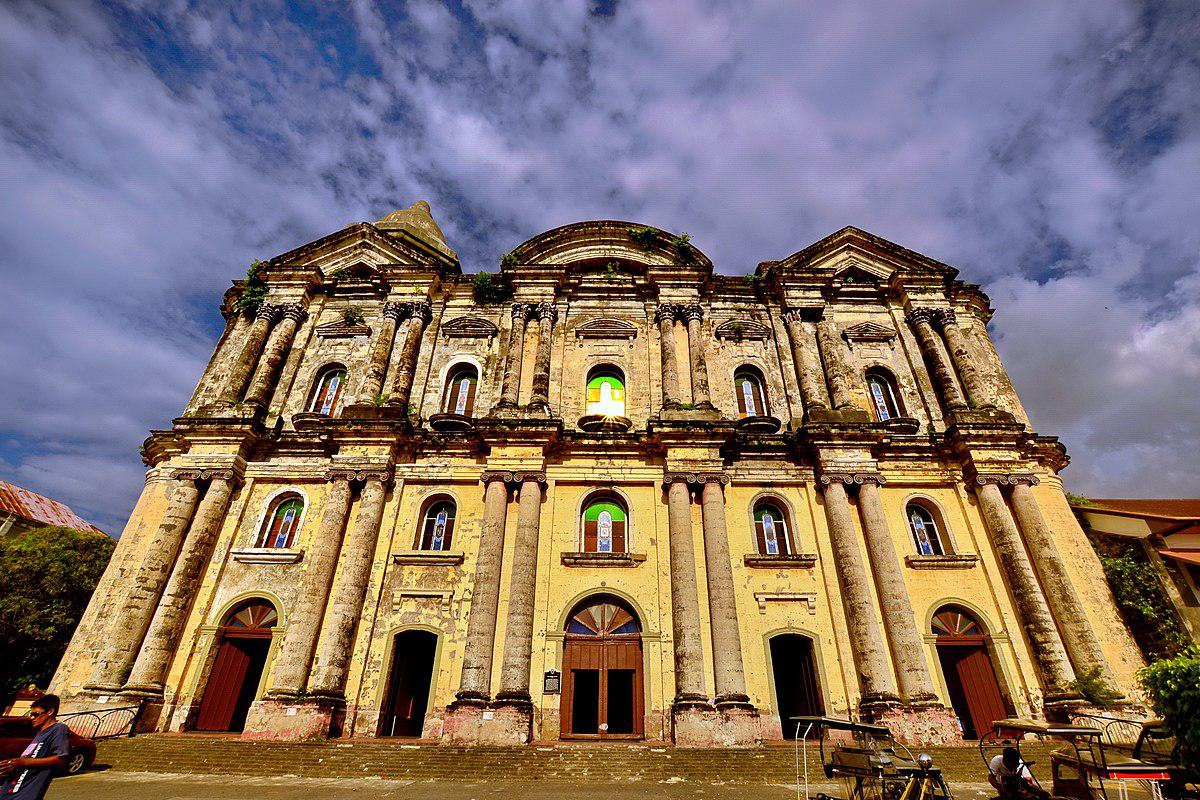taal_basilica_church_taal_batangas: (108, 187, 1157, 741)
